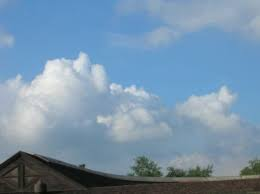sky: (1, 1, 256, 165)
